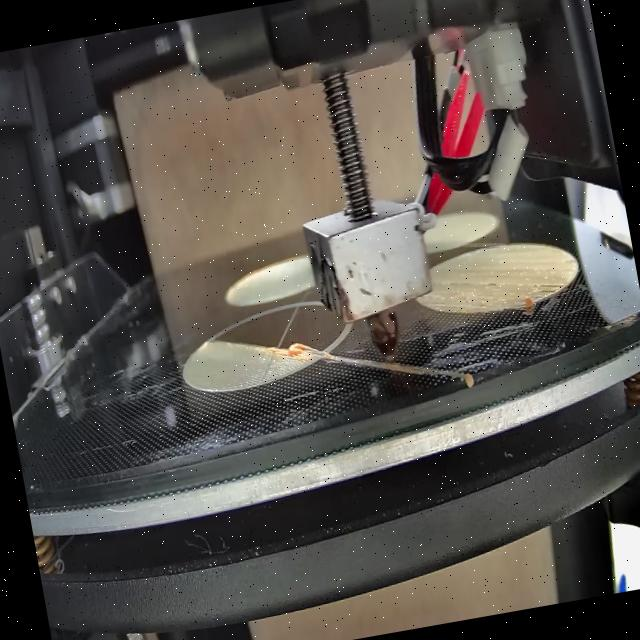under_extrusion: (450, 272, 500, 294), (530, 278, 566, 302), (559, 256, 581, 270)
